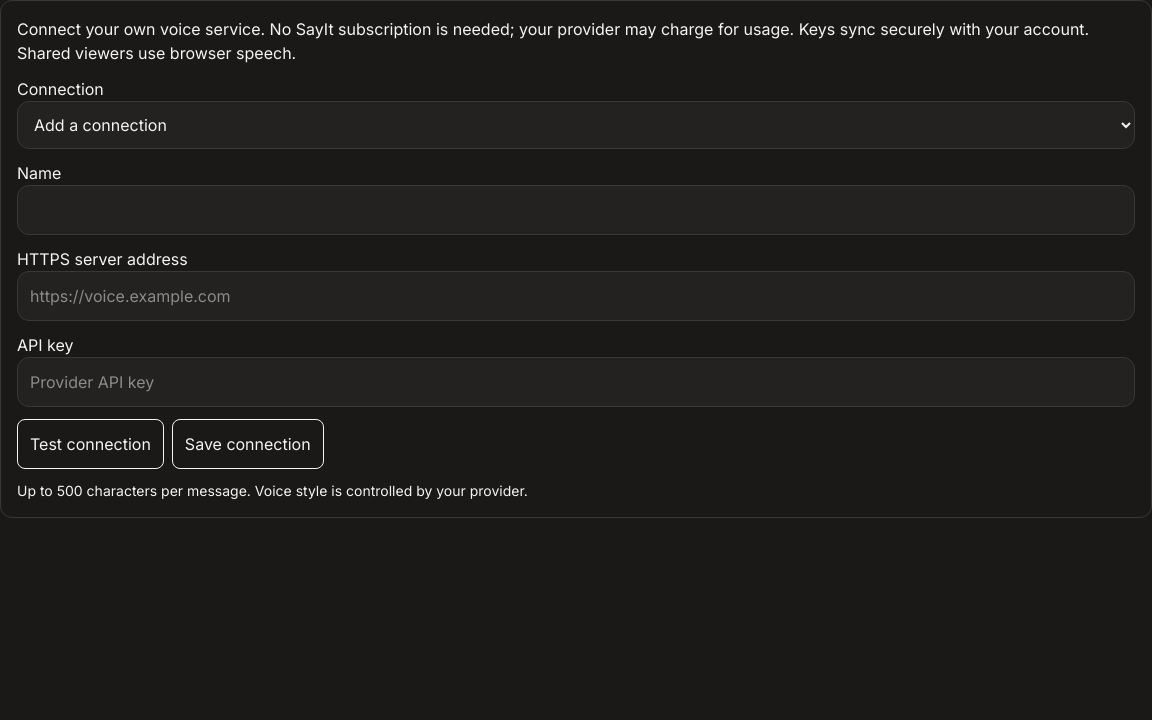
Test: saves an edited name without returning or resubmitting the old key
Step 1. Select "Personal" in the dropdown labelled "Connection" → (576, 125), box [17,101,1135,149]
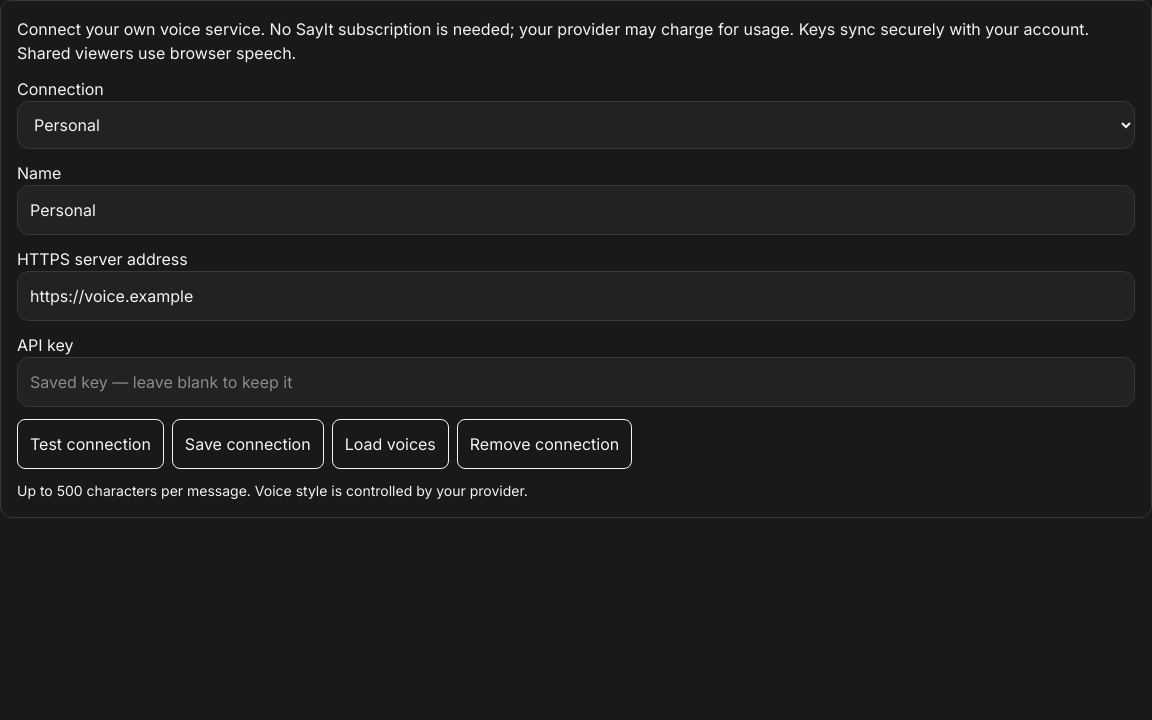
Step 2. Replace the text in the field labelled "Name" with "Renamed" → (576, 210), box [17,185,1135,235]
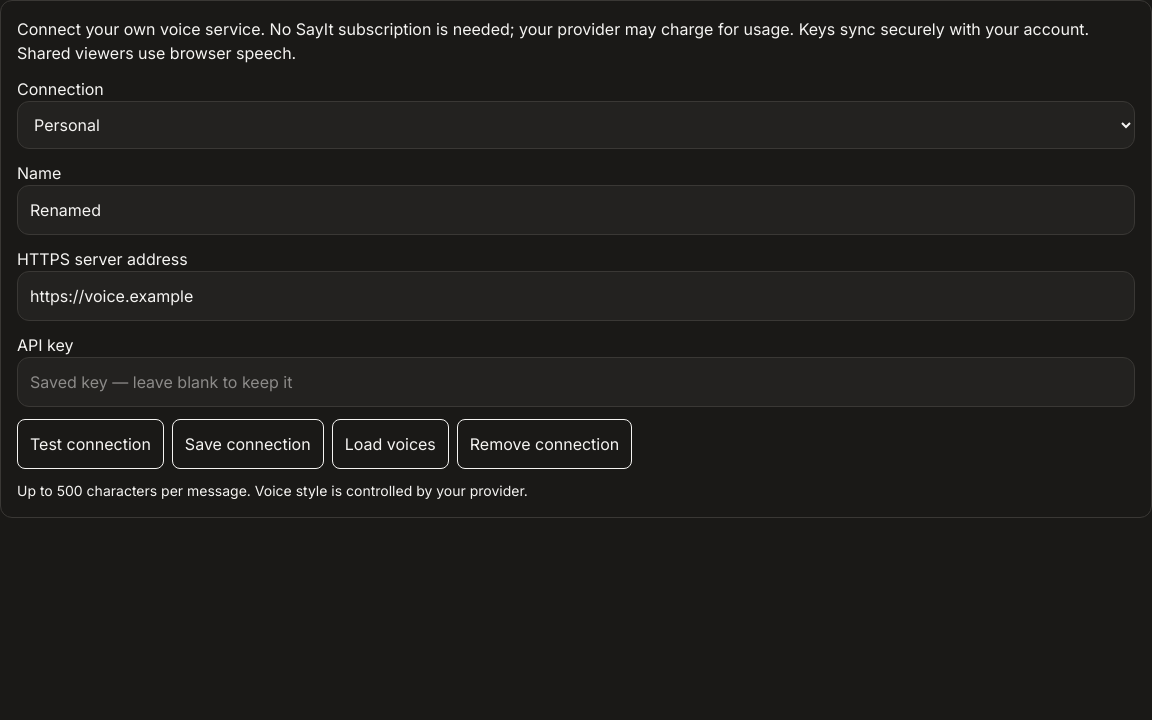
Step 3. Click the button "Save connection" → click(248, 444), box [172,419,324,469]
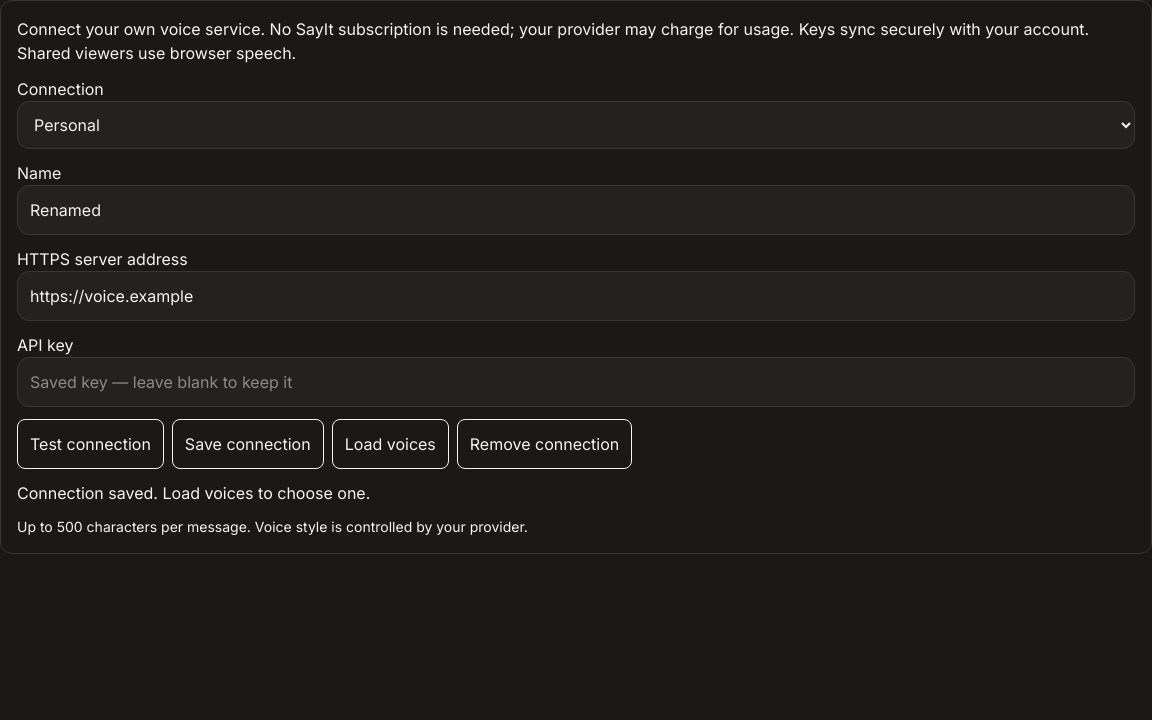
Expected: the text "Connection saved. Load voices to choose one." is shown, [17,483,370,503]
